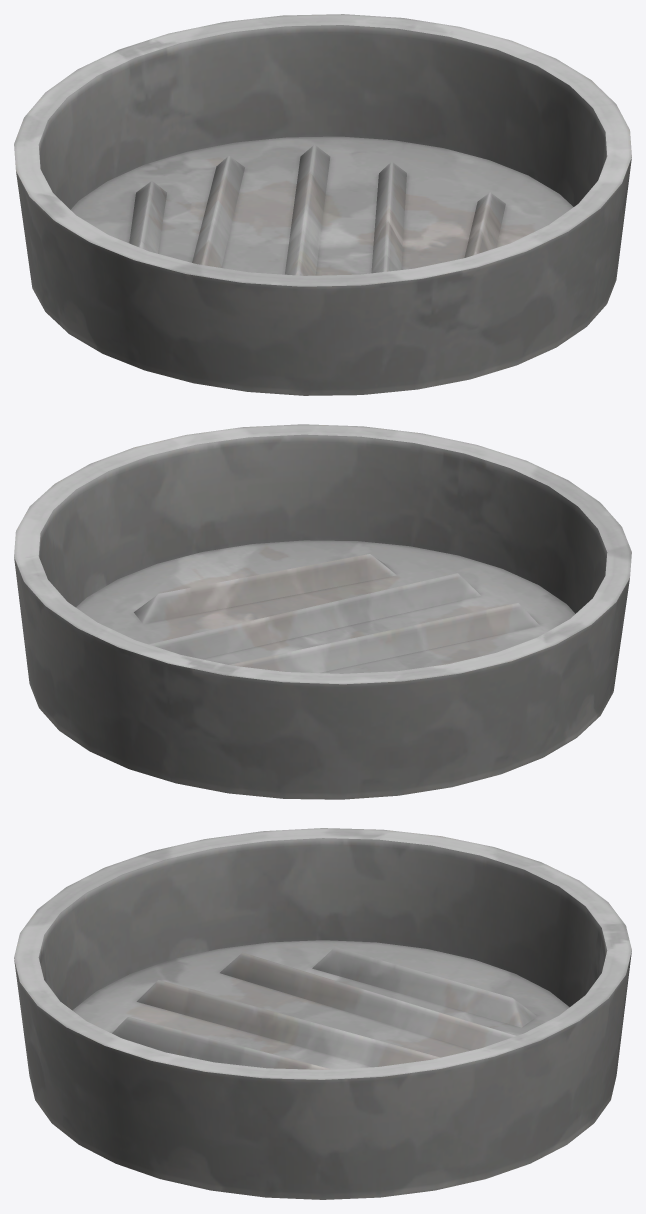
The model's file is SM_BurgerPressBottom.glb.
3 views of the same model, one above another, from view 1: azimuth 30°, elevation 25°; view 2: azimuth 150°, elevation 25°; view 3: azimuth 270°, elevation 25° (orthographic).
Visible parts, largest first — view 1: SM_BurgerPressBottom; view 2: SM_BurgerPressBottom; view 3: SM_BurgerPressBottom.
Part boxes in pixels (<box>): SM_BurgerPressBottom: <box>14,14,631,395</box>; SM_BurgerPressBottom: <box>14,424,631,799</box>; SM_BurgerPressBottom: <box>14,828,631,1199</box>.
Bounding box in the file's own units: 0.2045 × 0.0466 × 0.2039.
Materials: 1 (1 with a texture image).
